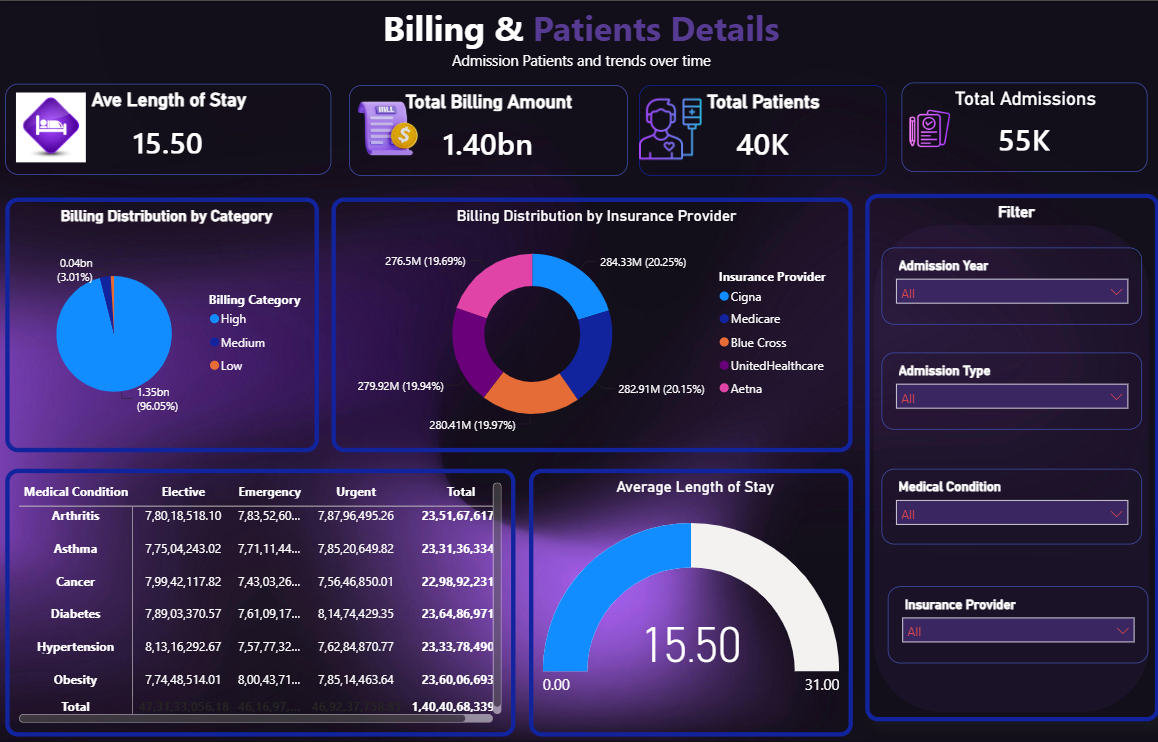

The page's visual inventory and layout, read from the dashboard file:
{"tool":"powerbi","page":{"name":"Billing & Patient Details","canvas":[1280,820],"ordinal":3},"visuals":[{"type":"pieChart","title":"Billing Distribution by Category","fields":{"Category":["Fact_Patient_Admissions.Billing Category"],"Y":["Fact_Patient_Admissions.Total Billing Amount"]},"box":[6.9,217.1,344.9,280.3],"z":2000},{"type":"pivotTable","fields":{"Rows":["Fact_Patient_Admissions.Medical Condition"],"Columns":["Fact_Patient_Admissions.Admission Type"],"Values":["Fact_Patient_Admissions.Total Billing Amount"]},"box":[6.9,515.3,560.6,294],"z":3000},{"type":"donutChart","title":"Billing Distribution by Insurance Provider","fields":{"Category":["Dim_Insurance.Insurance Provider"],"Y":["Fact_Patient_Admissions.Total Billing Amount"]},"box":[365.5,217.1,573,280.3],"z":4000},{"type":"gauge","fields":{"Y":["Fact_Patient_Admissions.Average Length of Stay"]},"box":[582.6,515.3,355.9,294],"z":7000},{"type":"textbox","box":[0,0,1280,84.9],"z":8000},{"type":"cardVisual","title":"Total Patients","fields":{"Data":["Fact_Patient_Admissions.Total Patients"]},"box":[703.5,93.4,272.1,100.3],"z":9000},{"type":"image","box":[17.9,101.7,78.3,76.9],"z":9500,"group":"g2"},{"type":"cardVisual","title":"Ave Length of Stay","fields":{"Data":["Fact_Patient_Admissions.Average Length of Stay"]},"box":[6.9,92.1,358.6,100.3],"z":10000,"group":"g2"},{"type":"cardVisual","title":"Total Billing Amount","fields":{"Data":["Fact_Patient_Admissions.Total Billing Amount"]},"box":[384.7,93.4,306.4,100.3],"z":10000},{"type":"group","id":"g1","title":"Group 1","box":[992,90.4,271.3,98.8],"z":11000},{"type":"cardVisual","title":"Total Admissions","fields":{"Data":["Fact_Patient_Admissions.Total Admissions"]},"box":[992,90.4,270.6,98.7],"z":11000,"group":"g1"},{"type":"group","id":"g2","title":"Group 3","box":[6.9,92.1,358.6,100.3],"z":12000},{"type":"image","box":[997,107.5,51.1,68.1],"z":12000,"group":"g1"},{"type":"image","box":[703.5,105.8,68.7,71.4],"z":13000},{"type":"shape","title":"Filter","box":[952.1,213.3,322.9,579.8],"z":13000,"group":"g3"},{"type":"image","box":[384.7,103.1,85.2,74.2],"z":14000},{"type":"group","id":"g3","title":"Group 2","box":[952.1,213.3,322.9,579.8],"z":17000},{"type":"slicer","fields":{"Values":["Fact_Patient_Admissions.Admission Year"]},"box":[969.7,272.7,286.6,84.9],"z":17500},{"type":"slicer","fields":{"Values":["Fact_Patient_Admissions.Insurance Provider"]},"box":[976.7,644.2,286.6,84.9],"z":18000},{"type":"slicer","fields":{"Values":["Fact_Patient_Admissions.Medical Condition"]},"box":[969.7,514.8,286.6,83.5],"z":18500},{"type":"slicer","fields":{"Values":["Fact_Patient_Admissions.Admission Type"]},"box":[969.7,386.8,286.6,84.9],"z":19000}]}

Visuals, with their boxes in screenshot pixels (x1, y1, x2, y2), scaled from the page's 1280x820 canvas onto the 1158x742 screenshot:
"Billing Distribution by Category" pieChart: 6,196,318,450
pivotTable - Fact_Patient_Admissions.Medical Condition x Fact_Patient_Admissions.Admission Type: 6,466,513,732
"Billing Distribution by Insurance Provider" donutChart: 331,196,849,450
gauge - Fact_Patient_Admissions.Average Length of Stay: 527,466,849,732
textbox: 0,0,1157,77
"Total Patients" cardVisual: 636,85,883,175
image: 16,92,87,162
"Ave Length of Stay" cardVisual: 6,83,331,174
"Total Billing Amount" cardVisual: 348,85,625,175
"Group 1" group: 897,82,1143,171
"Total Admissions" cardVisual: 897,82,1142,171
"Group 3" group: 6,83,331,174
image: 902,97,948,159
image: 636,96,699,160
"Filter" shape: 861,193,1153,718
image: 348,93,425,160
"Group 2" group: 861,193,1153,718
slicer - Fact_Patient_Admissions.Admission Year: 877,247,1137,324
slicer - Fact_Patient_Admissions.Insurance Provider: 884,583,1143,660
slicer - Fact_Patient_Admissions.Medical Condition: 877,466,1137,541
slicer - Fact_Patient_Admissions.Admission Type: 877,350,1137,427
